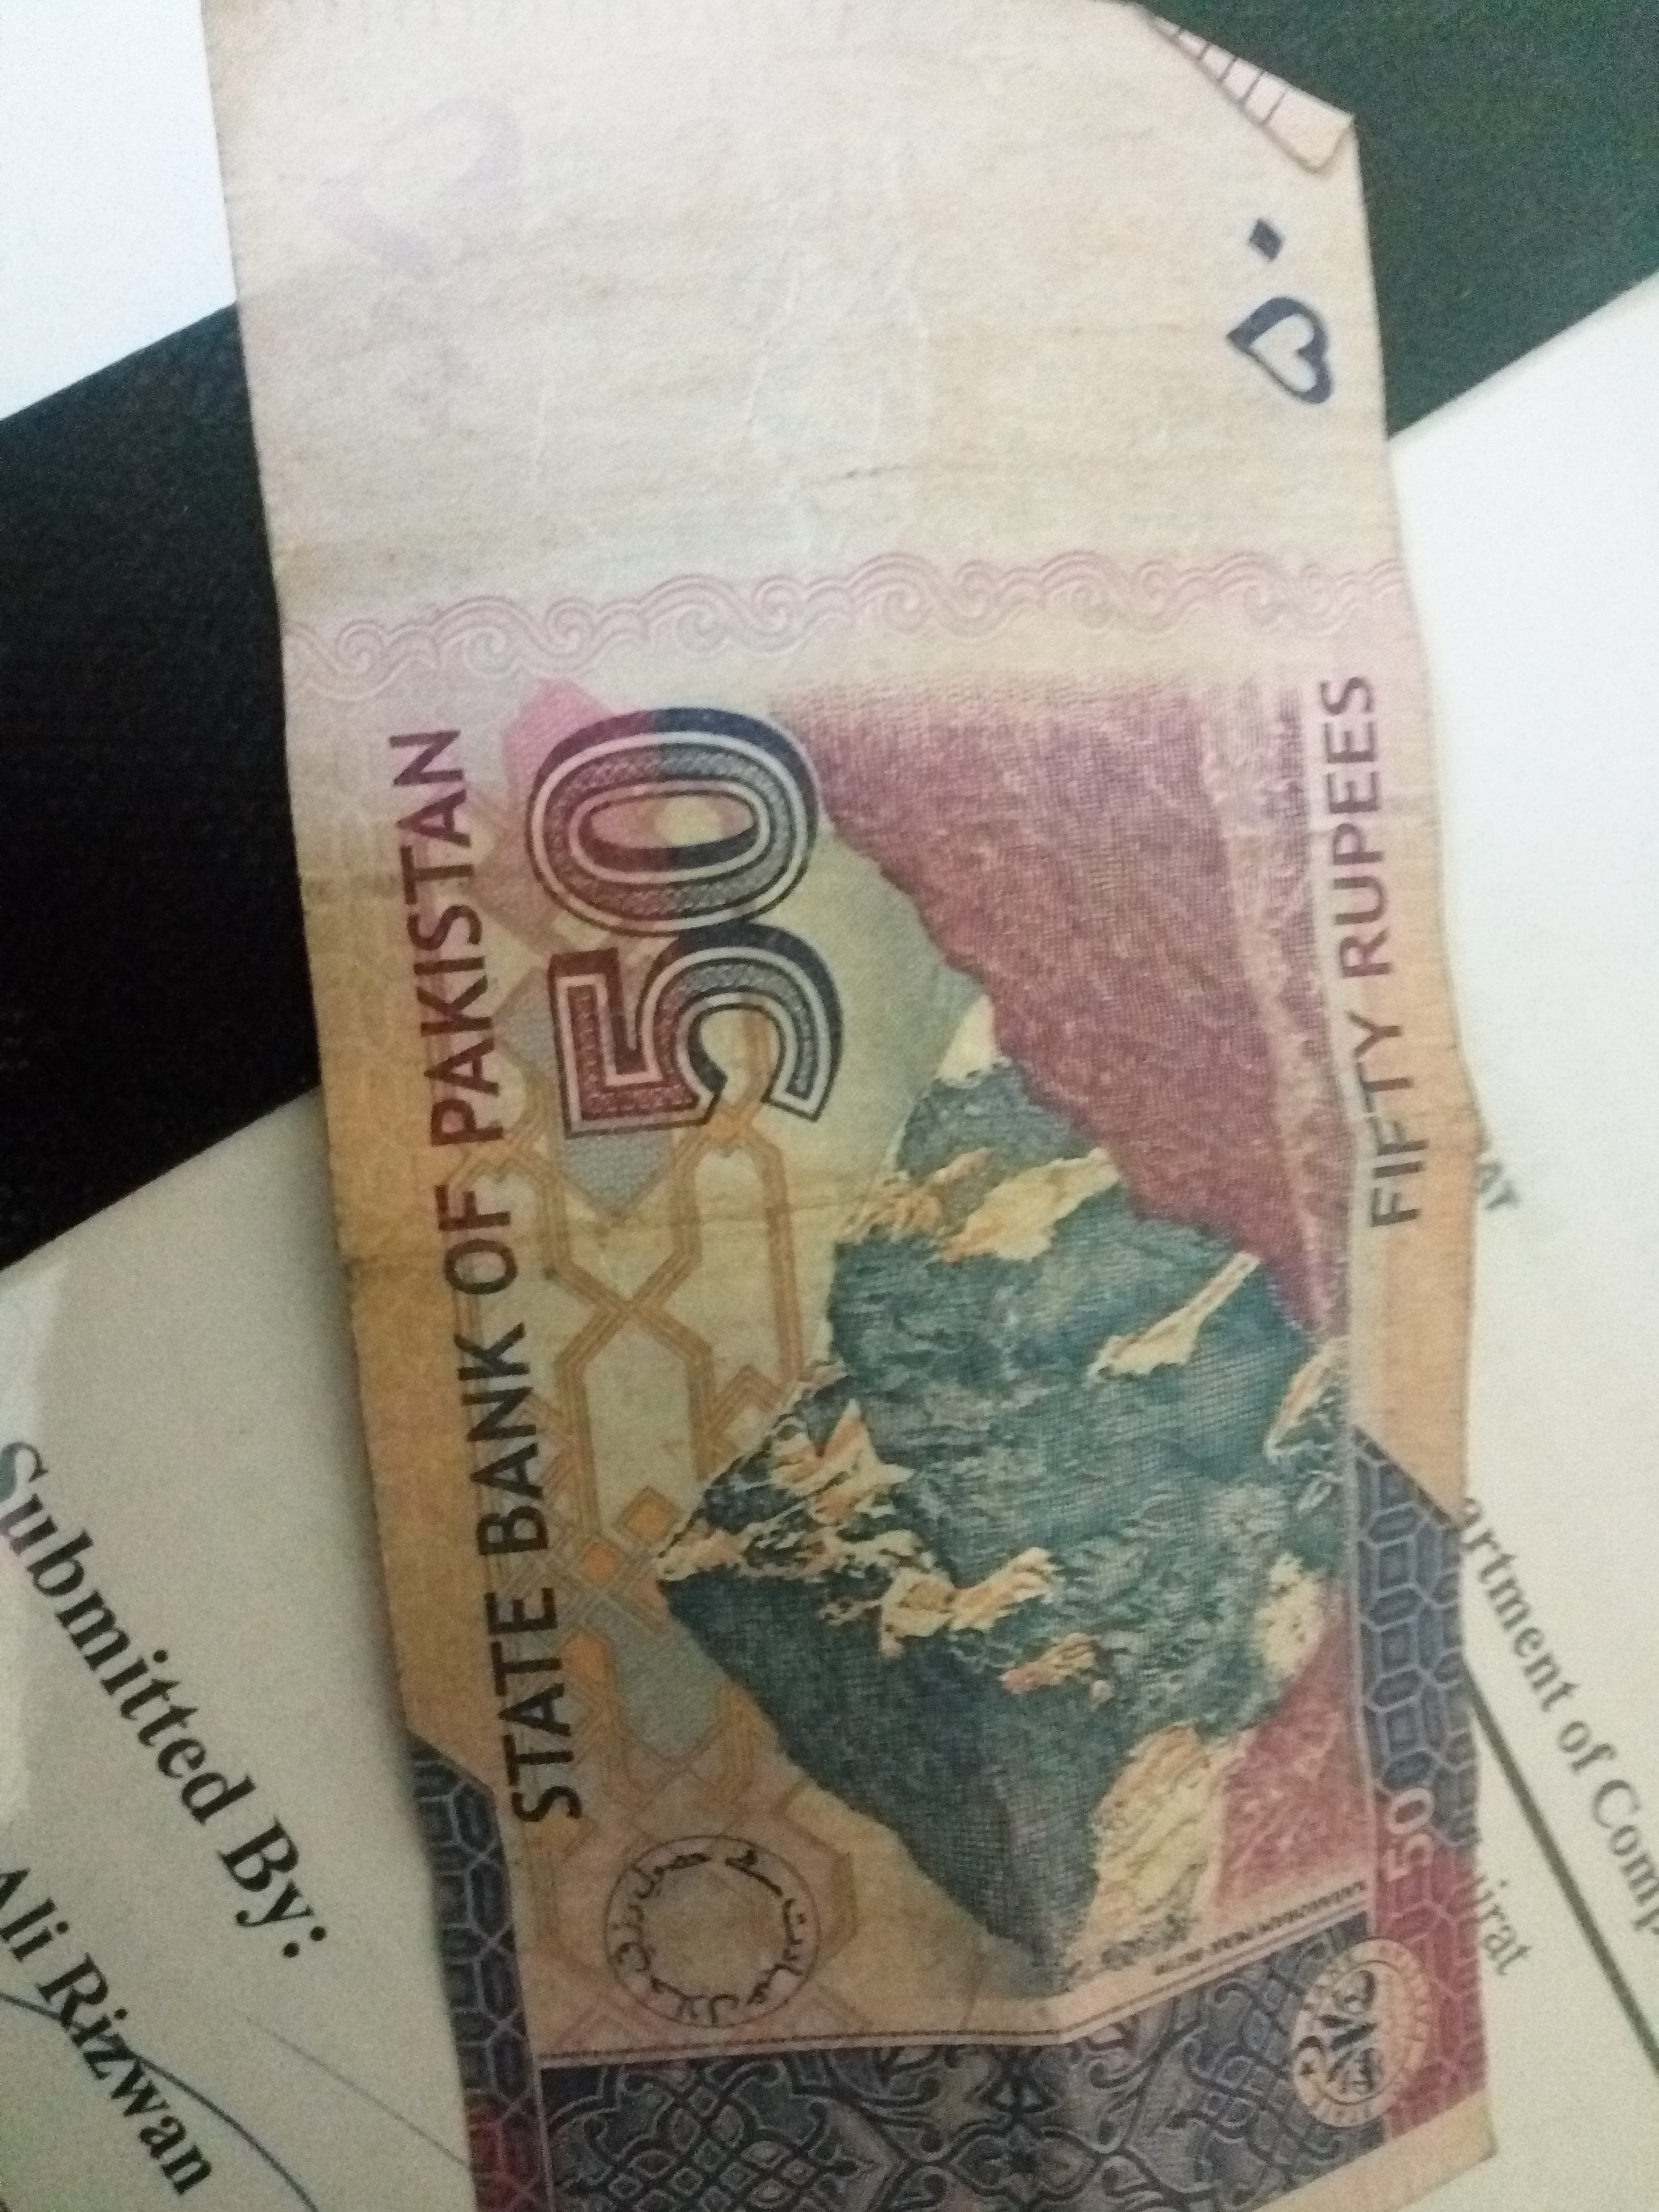50 rupee: (171, 47, 1527, 2212)
